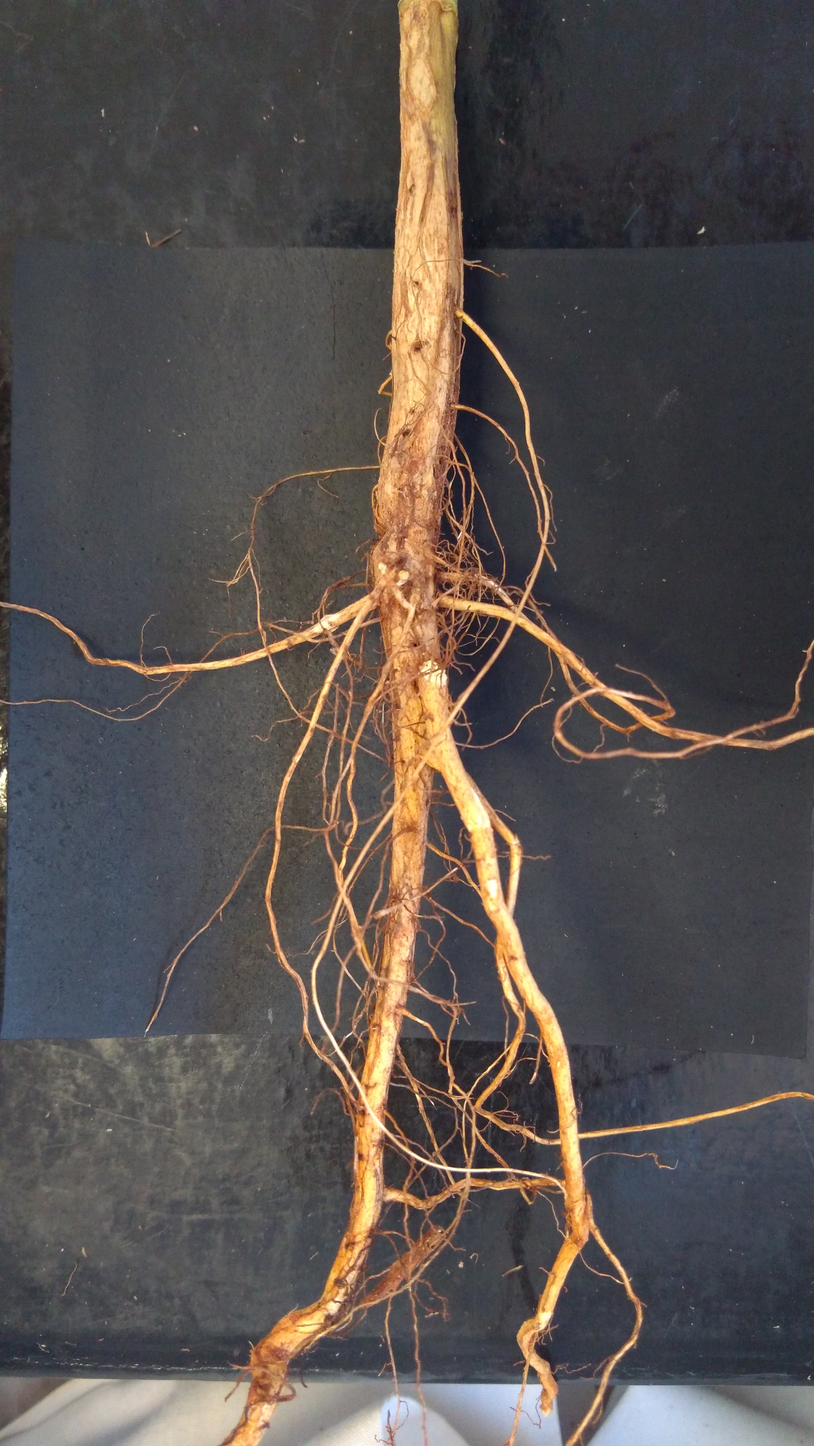nodule: (419, 659, 447, 685), (409, 586, 433, 613), (317, 614, 339, 635), (395, 568, 410, 588), (377, 561, 388, 576)
